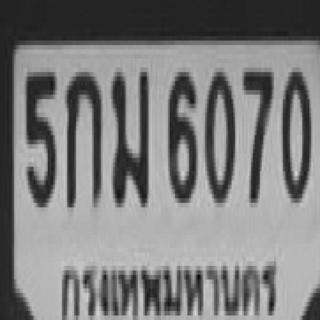A01: (65, 68, 100, 203)
A33: (110, 65, 147, 201)
N00: (203, 68, 233, 198), (281, 63, 309, 198)
N05: (25, 68, 55, 203)
N06: (166, 68, 194, 198)
N07: (242, 63, 272, 198)
P04: (58, 256, 283, 320)
